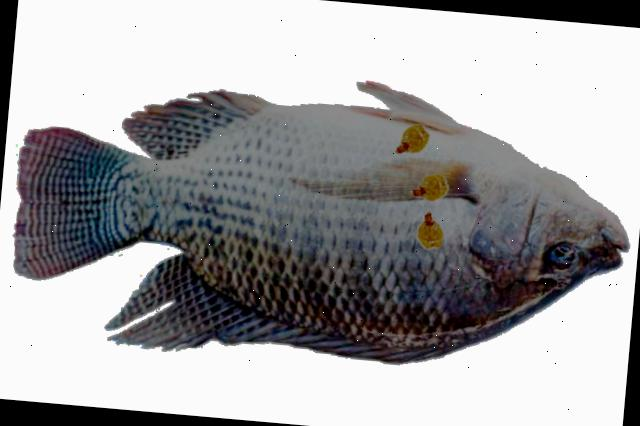Parasitic Disease: (15, 81, 628, 363), (15, 82, 628, 362)
